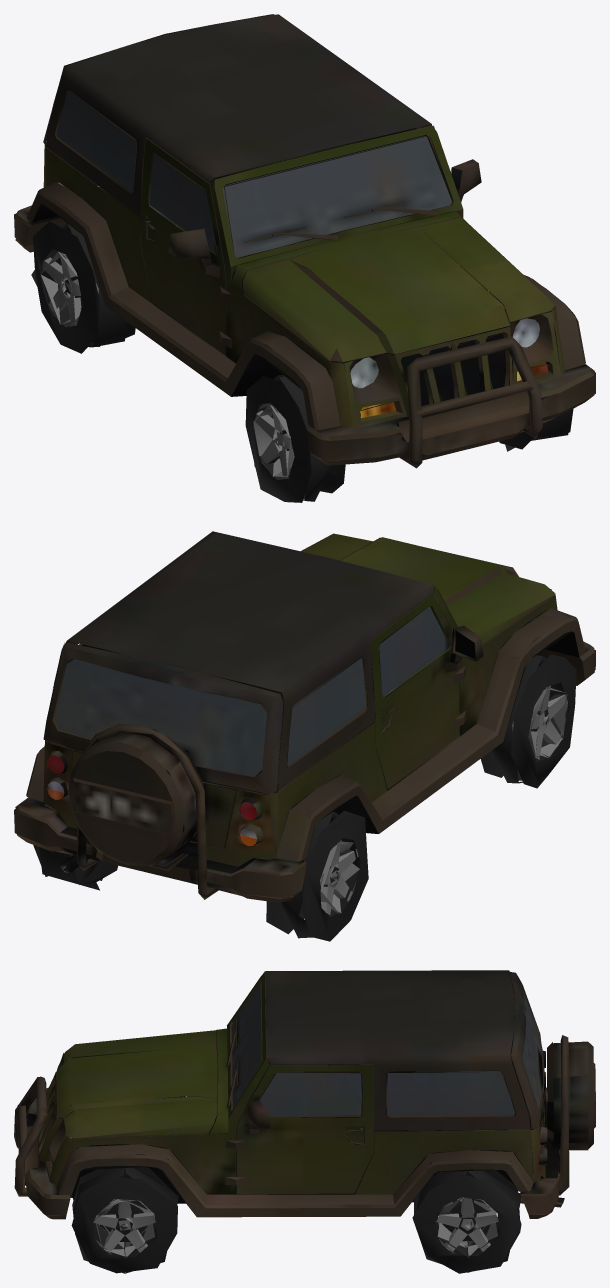
File: pack-offroad-L2.glb
3 renders of one model, top to bottom at view 1: azimuth 30°, elevation 25°; view 2: azimuth 150°, elevation 25°; view 3: azimuth 270°, elevation 25°, orthographic. The views are drawn at different scales.
Parts seen in each view (by area): view 1: body, wheel-back-left, wheel-front-left, wheel-front-left.1, wheel-back-left.1, wheel-front-right; view 2: body, wheel-back-left, wheel-front-left, wheel-front-left.1, wheel-back-left.1, wheel-back-right; view 3: body, wheel-front-right, wheel-back-right, wheel-back-right.1, wheel-front-right.1.
Boxes of the visible parts, x1,y1,x2,y2 form: body: [14, 14, 595, 468]; wheel-back-left: [31, 221, 135, 353]; wheel-front-left: [245, 374, 345, 502]; wheel-front-left.1: [253, 403, 294, 479]; wheel-back-left.1: [41, 251, 98, 326]; wheel-front-right: [499, 329, 573, 451]; body: [14, 531, 595, 902]; wheel-back-left: [266, 810, 368, 941]; wheel-front-left: [481, 654, 576, 788]; wheel-front-left.1: [512, 685, 567, 759]; wheel-back-left.1: [320, 840, 359, 914]; wheel-back-right: [33, 845, 117, 890]; body: [14, 970, 595, 1219]; wheel-front-right: [71, 1167, 178, 1273]; wheel-back-right: [412, 1170, 521, 1273]; wheel-back-right.1: [436, 1197, 498, 1257]; wheel-front-right.1: [93, 1199, 155, 1257].
Size of the model in its own units: 1.96 by 1.63 by 3.94.
Materials: 3 (1 with a texture image).
